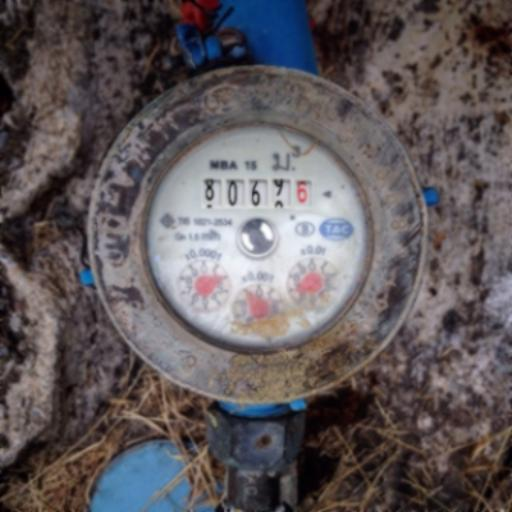0: (227, 181, 245, 205)
6: (250, 179, 265, 203), (297, 181, 312, 205)
8: (203, 181, 221, 205)
9: (273, 181, 291, 205)
border_water_meter_number: (196, 175, 319, 211)
